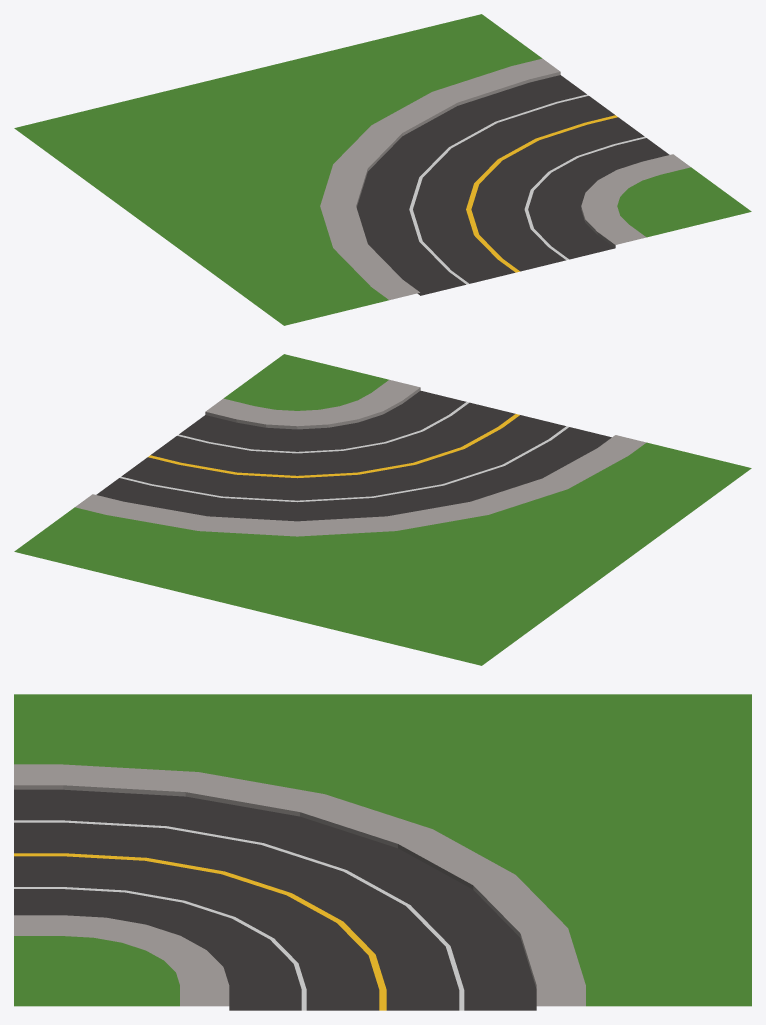
The model's file is tiles-nb-tile-mainroad-curve-nb.glb.
3 views of the same model, one above another, from view 1: azimuth 30°, elevation 25°; view 2: azimuth 150°, elevation 25°; view 3: azimuth 270°, elevation 25° (orthographic). The views are drawn at different scales.
Parts seen in each view (by area): view 1: tile-mainroad-curve-nb; view 2: tile-mainroad-curve-nb; view 3: tile-mainroad-curve-nb.
Boxes of the visible parts, x1,y1,x2,y2 form: tile-mainroad-curve-nb: [14, 14, 751, 325]; tile-mainroad-curve-nb: [14, 354, 751, 665]; tile-mainroad-curve-nb: [14, 694, 751, 1010].
Bounding box in the file's own units: 30 × 0.2 × 30.
